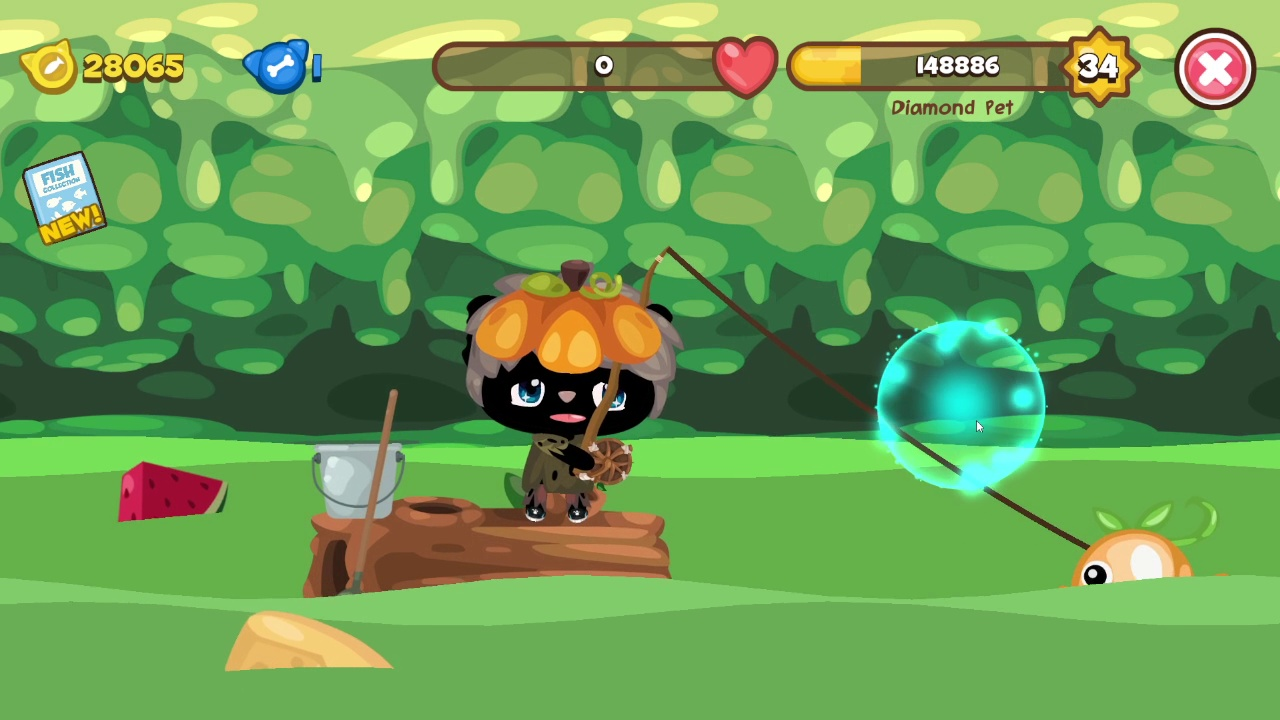point: (875, 318, 1048, 493)
